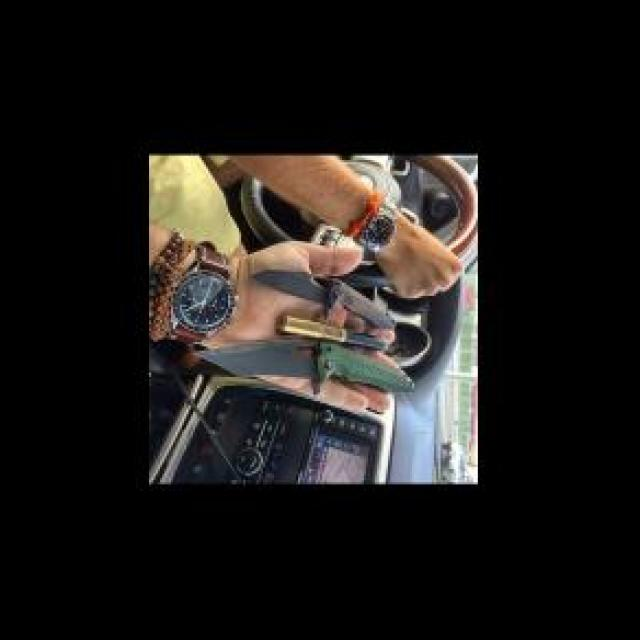knife: (188, 350, 414, 392), (253, 274, 399, 329)
